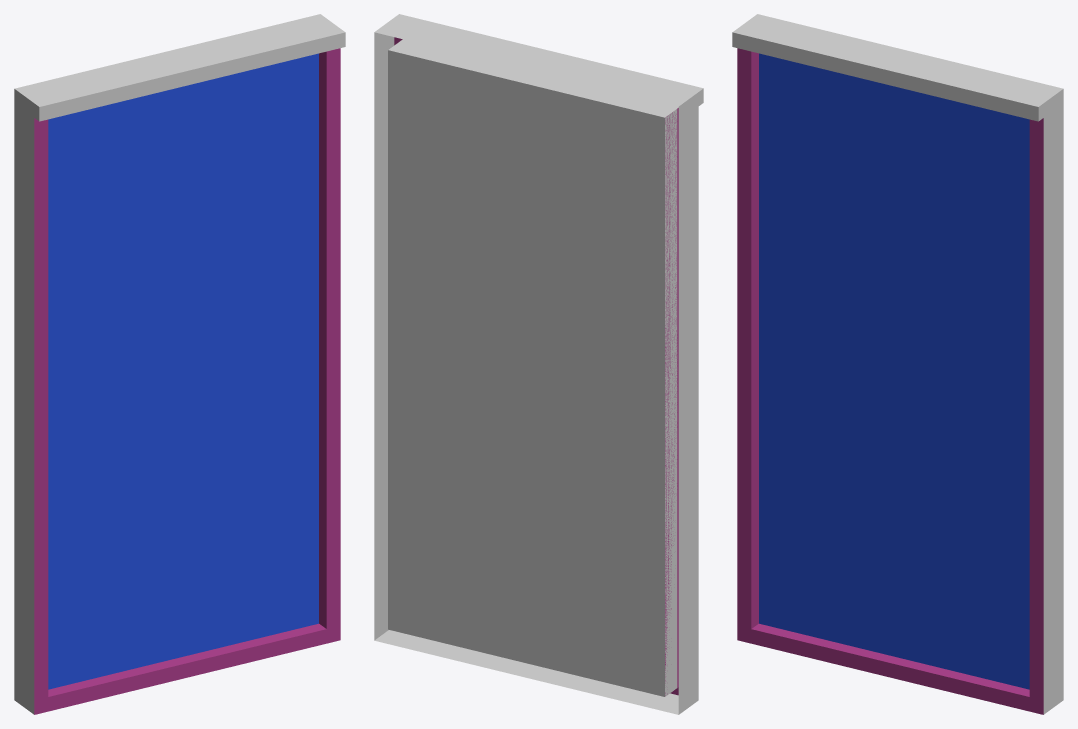
The model's file is signboard_1.glb.
3 views of the same model, side by side, from view 1: azimuth 30°, elevation 25°; view 2: azimuth 150°, elevation 25°; view 3: azimuth 330°, elevation 25° (orthographic).
Visible parts, largest first — view 1: Plane; view 2: Plane; view 3: Plane.
Part boxes in pixels (box(x1,y1,x2,y2)): Plane: box(14, 14, 345, 714); Plane: box(374, 14, 703, 714); Plane: box(732, 14, 1063, 714).
Bounding box in the file's own units: 0.704 × 1.34 × 0.1.
